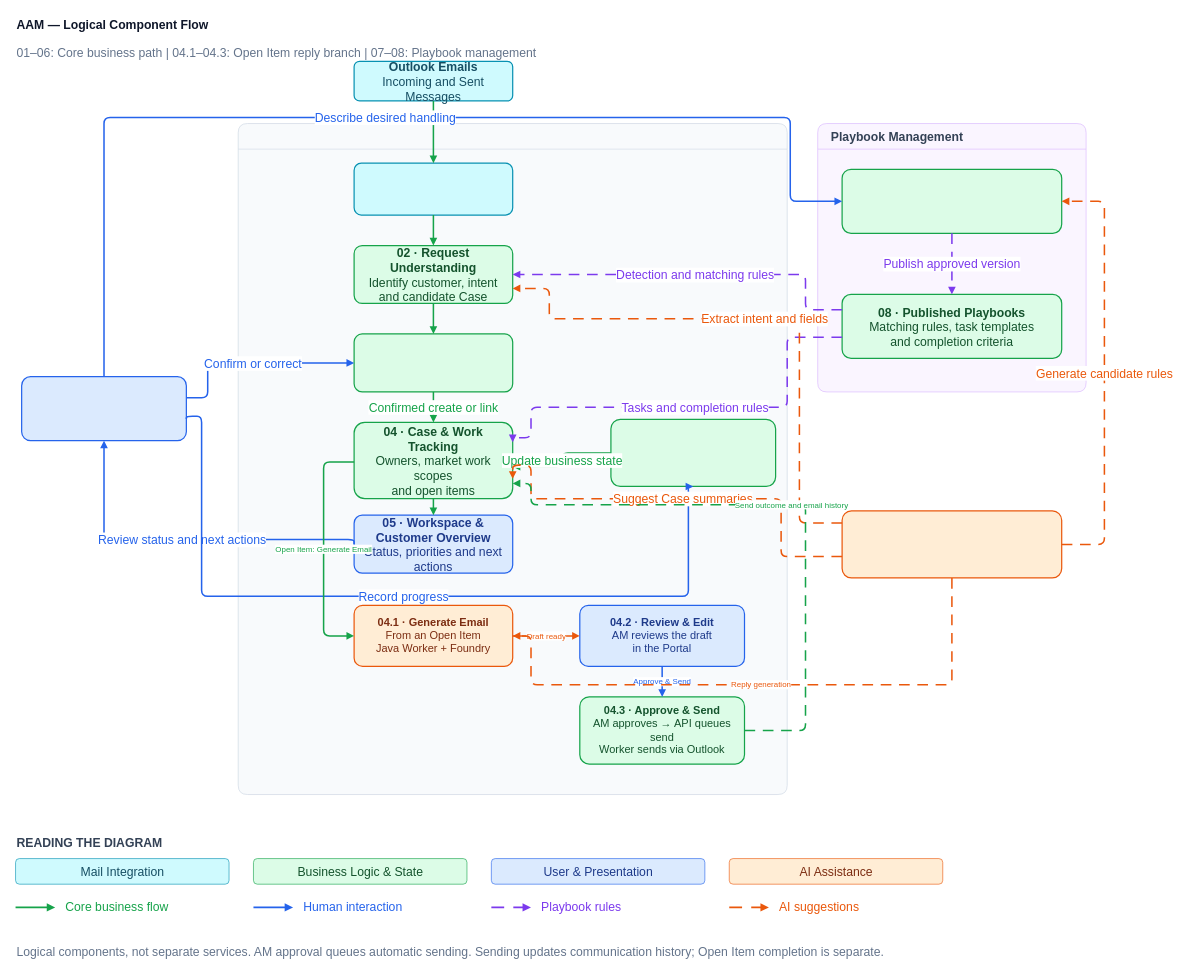
The diagram is 1183 pixels wide and 972 high, and some of its shapes have lost their labels. Here are the shapes that lost their labels. From the top down, the box of each, then its label:
(353, 162, 513, 215): 01 · Mail Synchronization Collect and deduplicate emails
(841, 168, 1062, 234): 07 · Playbook Authoring Prompt + example emails Generate, test and review
(353, 333, 513, 392): 03 · Triage Review AM confirms Create / Link / Ignore
(21, 376, 187, 441): Local / Regional AM Human Review and Decisions
(238, 123, 787, 795): Core Business Path
(610, 418, 776, 487): 06 · Progress Updates Record email and offline progress Complete or reopen work
(841, 510, 1062, 578): AI Assistance Extraction, summaries Reply and Playbook generation
